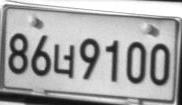0: (149, 42, 170, 87), (126, 40, 147, 84)
1: (102, 39, 124, 82)
6: (30, 35, 51, 77)
8: (7, 31, 29, 75)
9: (78, 37, 100, 79)
너: (53, 43, 75, 79)
